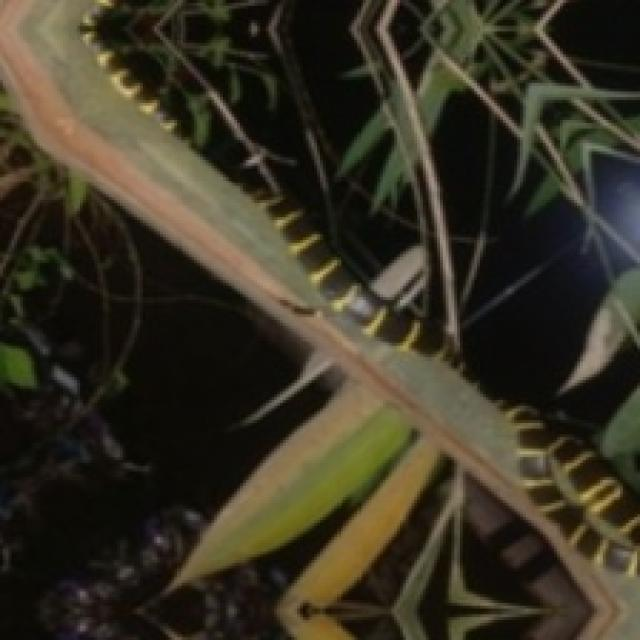mangrove cat snake: (441, 361, 640, 588), (251, 195, 424, 354), (82, 21, 170, 124)
